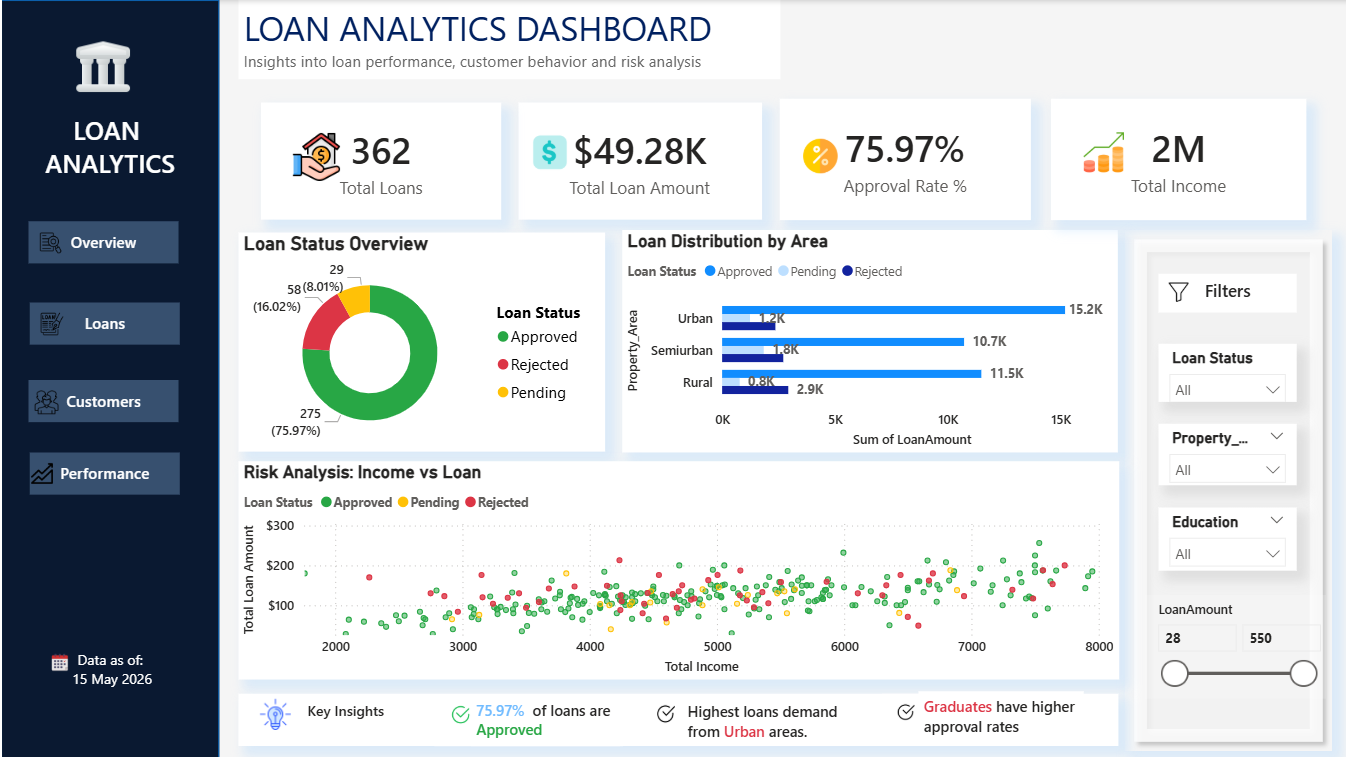

The dashboard page shown, as its layout file describes it:
{"tool":"powerbi","page":{"name":"Page 1","canvas":[1280,720],"ordinal":0},"visuals":[{"type":"cardVisual","fields":{"Data":["Cleaned_Loan_Data.Total Loan Amount"]},"box":[491.8,96.9,230.9,111.2],"z":0},{"type":"shape","box":[0,0,207.2,720.4],"z":1000},{"type":"image","box":[501.7,124,38.5,39.9],"z":2000},{"type":"shape","box":[1066.2,218.1,196.7,494.6],"z":3000},{"type":"cardVisual","fields":{"Data":["Cleaned_Loan_Data.Total Loans"]},"box":[246.6,96.9,228.1,111.2],"z":4000},{"type":"cardVisual","fields":{"Data":["Cleaned_Loan_Data.Approval Rate %"]},"box":[739.8,94.1,238,115.5],"z":5000},{"type":"image","box":[758.3,131.1,38.5,32.8],"z":6000},{"type":"donutChart","title":"Loan Status Overview","fields":{"Category":["Cleaned_Loan_Data.Loan Status"],"Y":["CountNonNull(Cleaned_Loan_Data.Loan_ID)"]},"box":[225.2,220.9,347.8,208.1],"z":7000},{"type":"clusteredBarChart","title":"Loan Distribution by Area","fields":{"Category":["Cleaned_Loan_Data.Property_Area"],"Y":["Sum(Cleaned_Loan_Data.LoanAmount)"],"Series":["Cleaned_Loan_Data.Loan Status"]},"box":[590.1,218.2,470.7,211.3],"z":8000},{"type":"scatterChart","title":"Risk Analysis: Income vs Loan","fields":{"Series":["Cleaned_Loan_Data.Loan Status"],"Category":["Cleaned_Loan_Data.Loan_ID"],"X":["Cleaned_Loan_Data.Total Income"],"Y":["Cleaned_Loan_Data.Total Loan Amount"]},"box":[225,437.7,835.7,207.2],"z":9000},{"type":"image","box":[56.3,35.7,82.3,59],"z":10000},{"type":"slicer","fields":{"Values":["Cleaned_Loan_Data.Loan Status"]},"box":[1099,326.4,131.1,55.6],"z":11000},{"type":"slicer","fields":{"Values":["Cleaned_Loan_Data.Property_Area"]},"box":[1099,402,131.1,58.4],"z":12000},{"type":"slicer","fields":{"Values":["Cleaned_Loan_Data.Education"]},"box":[1099,481.8,131.1,59.9],"z":13000},{"type":"slicer","fields":{"Values":["Cleaned_Loan_Data.LoanAmount"]},"box":[1085.4,564.2,171.9,98.4],"z":14000},{"type":"textbox","box":[0,101.5,207.2,86.4],"z":15000},{"type":"actionButton","box":[26.1,209.9,142.7,39.8],"z":16000},{"type":"image","box":[37,219.6,20.6,22],"z":17000},{"type":"actionButton","box":[27.4,286.8,142.7,39.8],"z":18000},{"type":"actionButton","box":[26.1,360.9,142.7,39.8],"z":19000},{"type":"actionButton","box":[27.4,429.5,142.7,39.8],"z":20000},{"type":"image","box":[37,296.4,23.3,22],"z":21000},{"type":"image","box":[28.8,437.7,20.6,23.3],"z":22000},{"type":"image","box":[26.1,370.5,34.3,23.3],"z":23000},{"type":"textbox","box":[13.7,612,182.5,64.5],"z":24000},{"type":"image","box":[48,612,16.5,32.9],"z":25000},{"type":"cardVisual","fields":{"Data":["Cleaned_Loan_Data.Total Income"]},"box":[996.3,94.1,242.3,115.5],"z":26000},{"type":"textbox","box":[225,0,514.6,75.5],"z":27000},{"type":"shape","box":[225.2,658.5,835.3,49.9],"z":28000},{"type":"textbox","box":[285.4,661.4,96.1,30.2],"z":29000},{"type":"image","box":[238,662.8,44.2,29.9],"z":30000},{"type":"shape","box":[411.9,660,178.2,48.5],"z":31000},{"type":"textbox","box":[446.1,660,141.1,48.5],"z":32000},{"type":"image","box":[427.6,667.1,18.5,22.8],"z":33000},{"type":"shape","box":[628.6,660,168.2,48.5],"z":34000},{"type":"shape","box":[836.7,658.5,163.9,49.9],"z":35000},{"type":"textbox","box":[647.1,661.4,173.9,47],"z":36000},{"type":"image","box":[622.9,662.8,17.1,28.5],"z":37000},{"type":"image","box":[846.7,668.5,24.2,15.7],"z":38000},{"type":"textbox","box":[883.7,667.1,94.1,25.7],"z":39000},{"type":"textbox","box":[870.9,655.7,156.8,49.9],"z":40000},{"type":"textbox","box":[1099,259.4,131.1,37.1],"z":41000},{"type":"image","box":[1099,268,38.5,18.5],"z":42000},{"type":"image","box":[260.8,124,77,48.5],"z":43000},{"type":"image","box":[1027.7,124,38.5,39.9],"z":44000}]}

Visuals, with their boxes in screenshot pixels (x1, y1, x2, y2), scaled from the page's 1280x720 canvas onto the 1346x757 screenshot:
cardVisual - Cleaned_Loan_Data.Total Loan Amount: x1=517 y1=102 x2=760 y2=219
shape: x1=0 y1=0 x2=218 y2=756
image: x1=528 y1=130 x2=568 y2=172
shape: x1=1121 y1=229 x2=1328 y2=749
cardVisual - Cleaned_Loan_Data.Total Loans: x1=259 y1=102 x2=499 y2=219
cardVisual - Cleaned_Loan_Data.Approval Rate %: x1=778 y1=99 x2=1028 y2=220
image: x1=797 y1=138 x2=838 y2=172
"Loan Status Overview" donutChart: x1=237 y1=232 x2=603 y2=451
"Loan Distribution by Area" clusteredBarChart: x1=621 y1=229 x2=1115 y2=452
"Risk Analysis: Income vs Loan" scatterChart: x1=237 y1=460 x2=1115 y2=678
image: x1=59 y1=38 x2=146 y2=100
slicer - Cleaned_Loan_Data.Loan Status: x1=1156 y1=343 x2=1294 y2=402
slicer - Cleaned_Loan_Data.Property_Area: x1=1156 y1=423 x2=1294 y2=484
slicer - Cleaned_Loan_Data.Education: x1=1156 y1=507 x2=1294 y2=570
slicer - Cleaned_Loan_Data.LoanAmount: x1=1141 y1=593 x2=1322 y2=697
textbox: x1=0 y1=107 x2=218 y2=198
actionButton: x1=27 y1=221 x2=178 y2=263
image: x1=39 y1=231 x2=61 y2=254
actionButton: x1=29 y1=302 x2=179 y2=343
actionButton: x1=27 y1=379 x2=178 y2=421
actionButton: x1=29 y1=452 x2=179 y2=493
image: x1=39 y1=312 x2=63 y2=335
image: x1=30 y1=460 x2=52 y2=485
image: x1=27 y1=390 x2=64 y2=414
textbox: x1=14 y1=643 x2=206 y2=711
image: x1=50 y1=643 x2=68 y2=678
cardVisual - Cleaned_Loan_Data.Total Income: x1=1048 y1=99 x2=1302 y2=220
textbox: x1=237 y1=0 x2=778 y2=79
shape: x1=237 y1=692 x2=1115 y2=745
textbox: x1=300 y1=695 x2=401 y2=727
image: x1=250 y1=697 x2=297 y2=728
shape: x1=433 y1=694 x2=621 y2=745
textbox: x1=469 y1=694 x2=617 y2=745
image: x1=450 y1=701 x2=469 y2=725
shape: x1=661 y1=694 x2=838 y2=745
shape: x1=880 y1=692 x2=1052 y2=745
textbox: x1=680 y1=695 x2=863 y2=745
image: x1=655 y1=697 x2=673 y2=727
image: x1=890 y1=703 x2=916 y2=719
textbox: x1=929 y1=701 x2=1028 y2=728
textbox: x1=916 y1=689 x2=1081 y2=742
textbox: x1=1156 y1=273 x2=1294 y2=312
image: x1=1156 y1=282 x2=1196 y2=301
image: x1=274 y1=130 x2=355 y2=181
image: x1=1081 y1=130 x2=1121 y2=172
